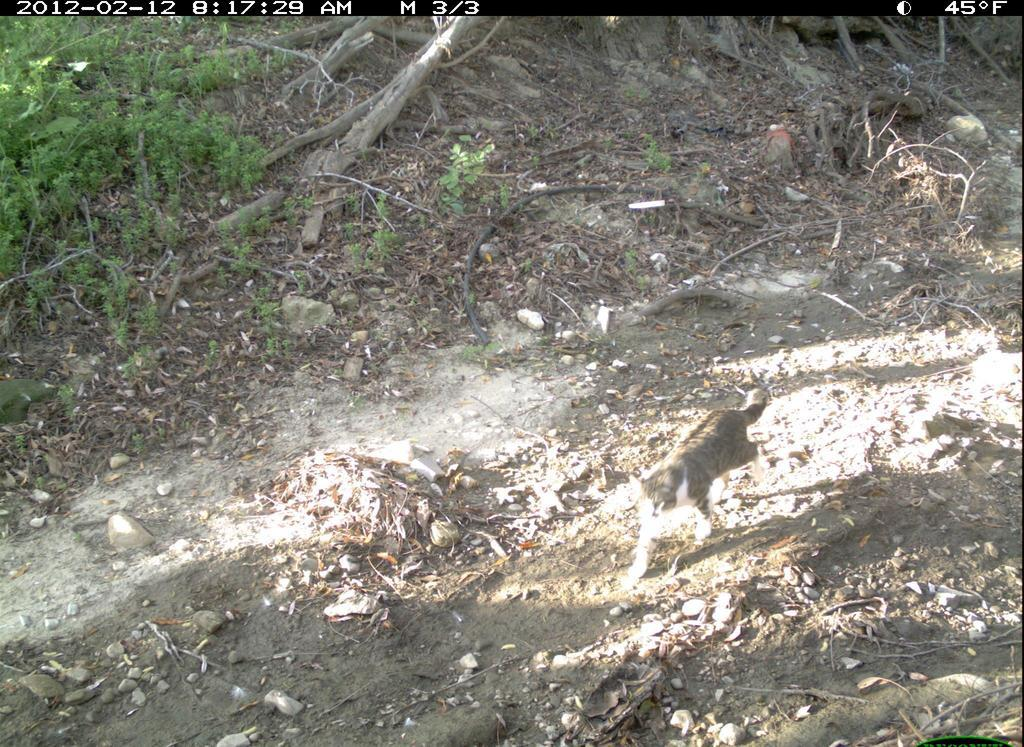cat: (628, 383, 770, 587)
